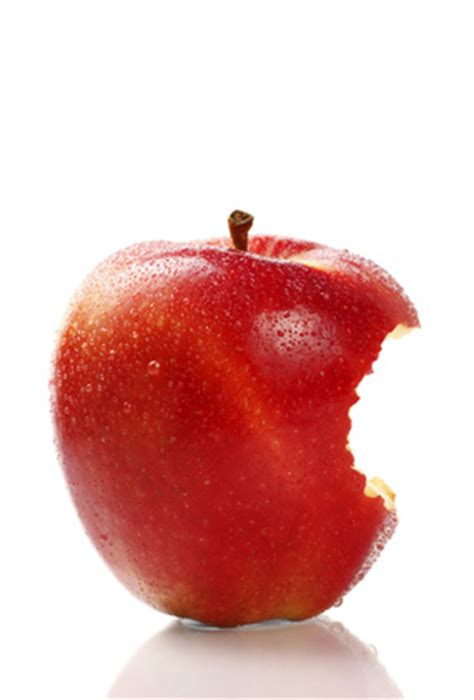apple: (51, 222, 435, 633)
